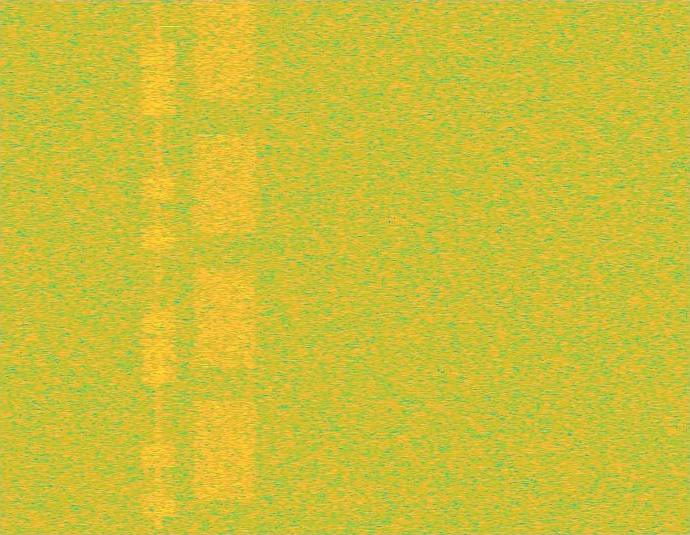5G: (190, 0, 259, 534)
DSSS: (155, 0, 162, 534)
LTE: (141, 0, 176, 534)
Radar: (162, 0, 176, 534)
